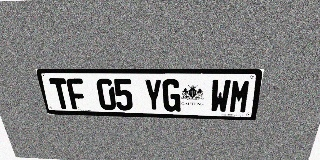0: (96, 78, 117, 110)
5: (113, 79, 134, 111)
F: (66, 78, 88, 110)
G: (162, 79, 181, 112)
M: (228, 79, 252, 113)
T: (49, 78, 72, 109)
W: (209, 79, 231, 113)
Y: (144, 79, 162, 111)
